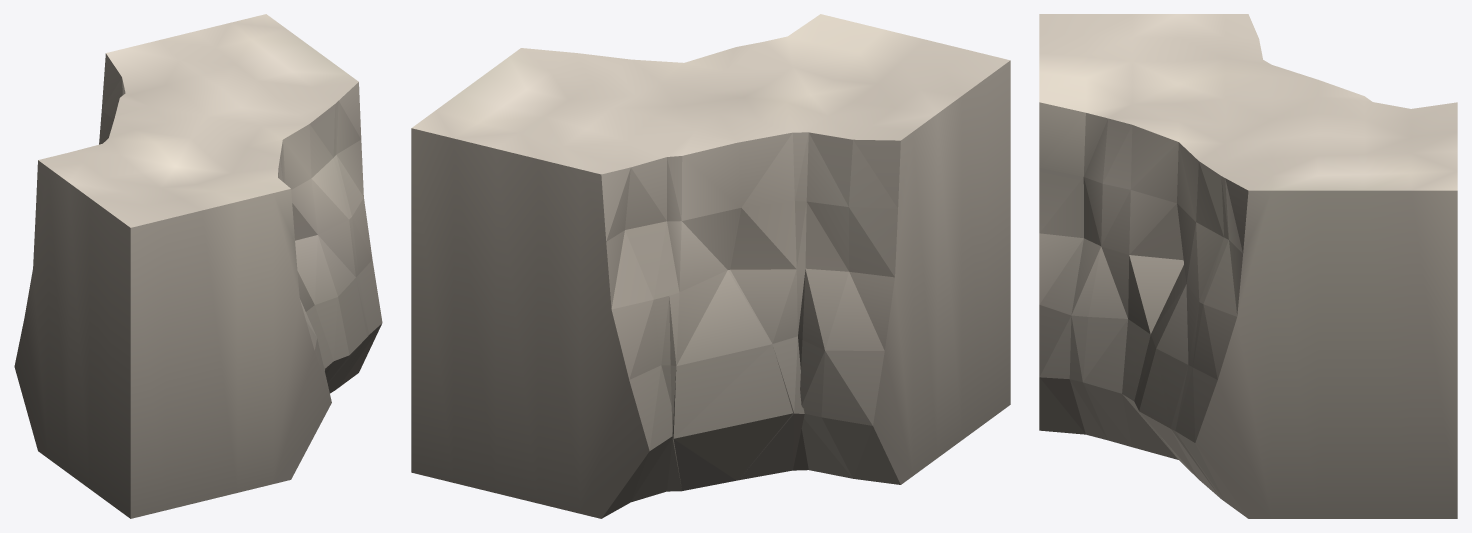
The model's file is SM_VKI_Rock_Cave_COCO_B.fbx.
3 views of the same model, side by side, from view 1: azimuth 30°, elevation 25°; view 2: azimuth 150°, elevation 25°; view 3: azimuth 270°, elevation 25° (orthographic). The views are drawn at different scales.
Visible parts, largest first — view 1: SM_VKI_Rock_Cave_COCO_B.001; view 2: SM_VKI_Rock_Cave_COCO_B.001; view 3: SM_VKI_Rock_Cave_COCO_B.001.
Part boxes in pixels (box(x1,y1,x2,y2)): SM_VKI_Rock_Cave_COCO_B.001: box(14, 14, 382, 518); SM_VKI_Rock_Cave_COCO_B.001: box(411, 14, 1010, 518); SM_VKI_Rock_Cave_COCO_B.001: box(1039, 14, 1457, 518).
Size of the model in its own units: 1.5 by 1.3 by 1.5.
